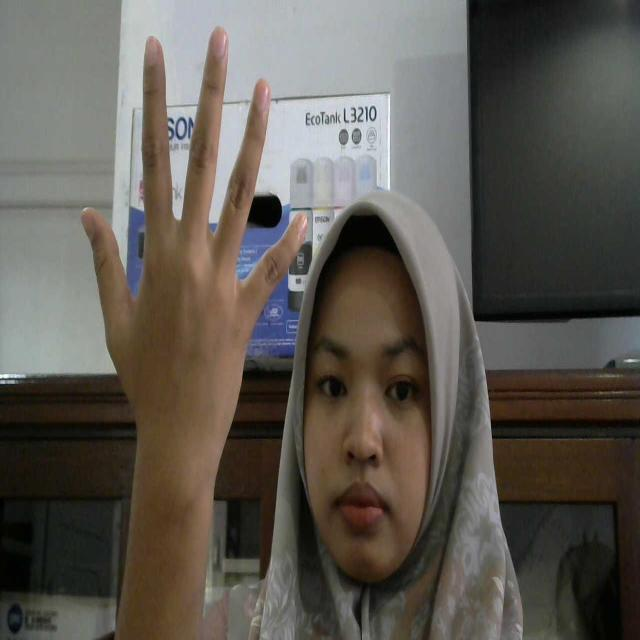hand: (78, 31, 311, 489)
